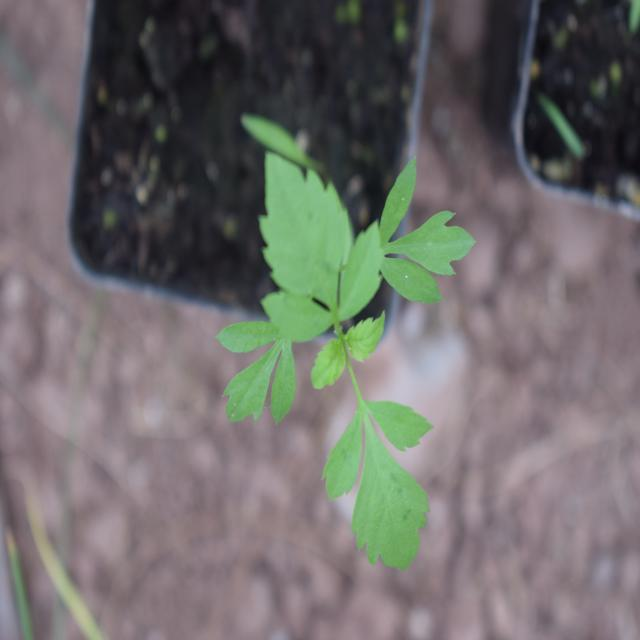Bidens pilosa: (220, 150, 478, 568)
